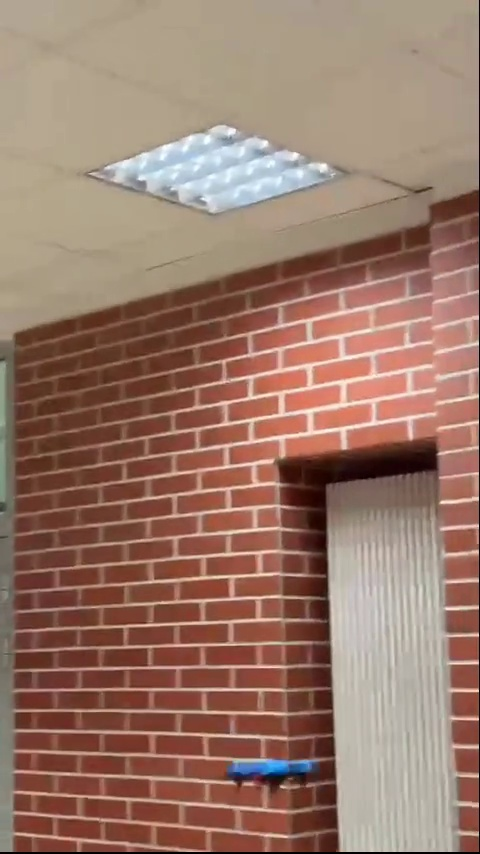drone: (229, 761, 316, 790)
